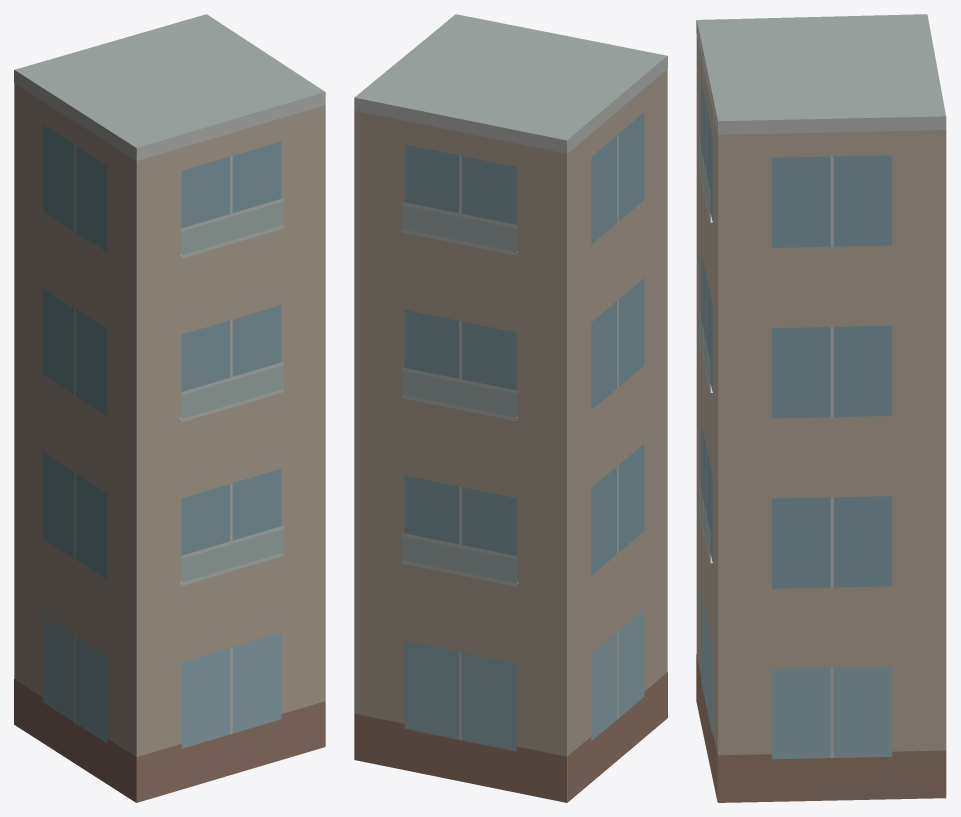
File: survey-upis-32942298.glb
The picture shows the model from 3 angles, left to right: view 1: azimuth 30°, elevation 25°; view 2: azimuth 150°, elevation 25°; view 3: azimuth 270°, elevation 25°; orthographic projection. The views are drawn at different scales.
Visible parts, largest first — view 1: survey-upis-32942298.tmp; view 2: survey-upis-32942298.tmp; view 3: survey-upis-32942298.tmp.
Part boxes in pixels (bbox=[...]): survey-upis-32942298.tmp: bbox=[14, 14, 325, 802]; survey-upis-32942298.tmp: bbox=[354, 14, 667, 802]; survey-upis-32942298.tmp: bbox=[696, 14, 946, 802].
Size of the model in its own units: 4.12 by 12.2 by 4.06.
